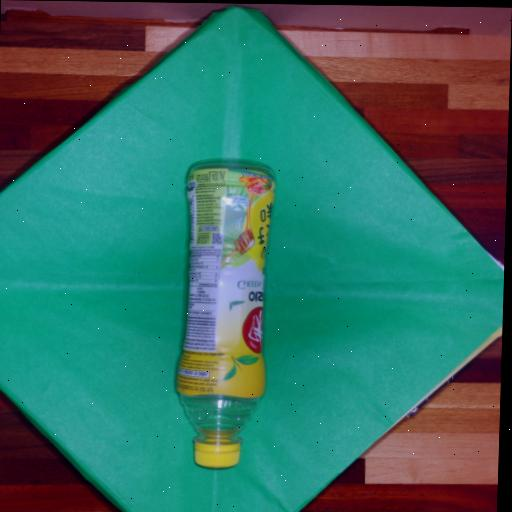bottle: (171, 161, 270, 470)
